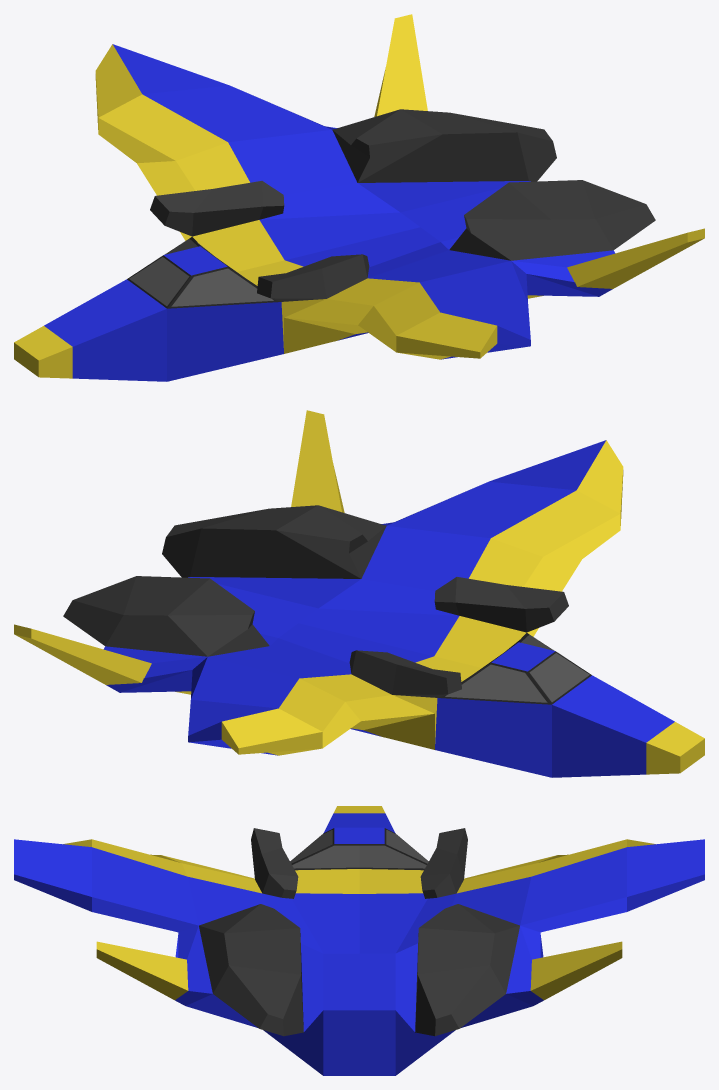
The model's file is Striker.fbx.
The picture shows the model from 3 angles, top to bottom: view 1: azimuth 30°, elevation 25°; view 2: azimuth 150°, elevation 25°; view 3: azimuth 270°, elevation 25°; orthographic projection. The views are drawn at different scales.
Parts seen in each view (by area): view 1: Cube; view 2: Cube; view 3: Cube.
Boxes of the visible parts, x1,y1,x2,y2 form: Cube: [14, 14, 704, 381]; Cube: [14, 410, 704, 777]; Cube: [14, 806, 704, 1075].
Size of the model in its own units: 1643 by 398 by 1908.
